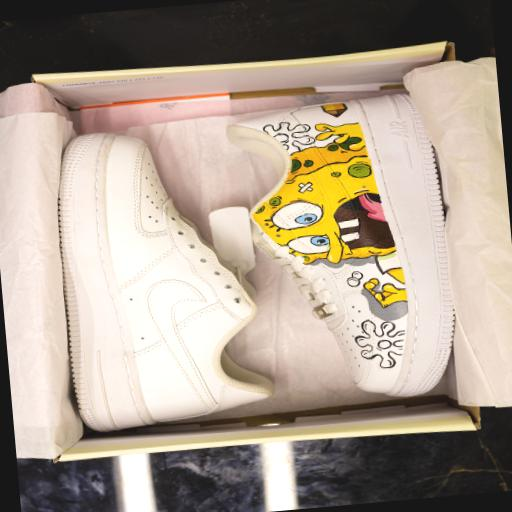shoe: (228, 95, 454, 396), (59, 134, 273, 431)
